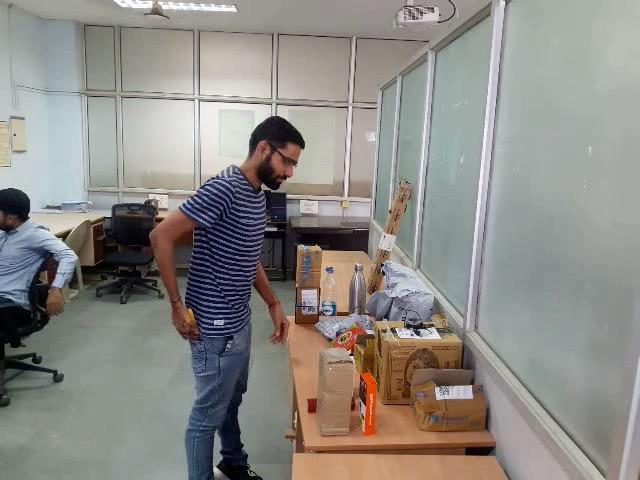shoplifting: (109, 265, 289, 375)
